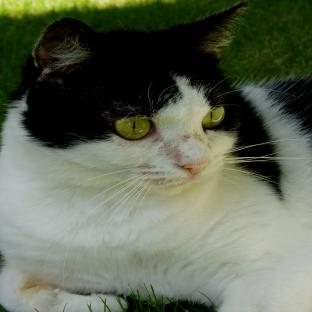Animal: (0, 2, 312, 312)
